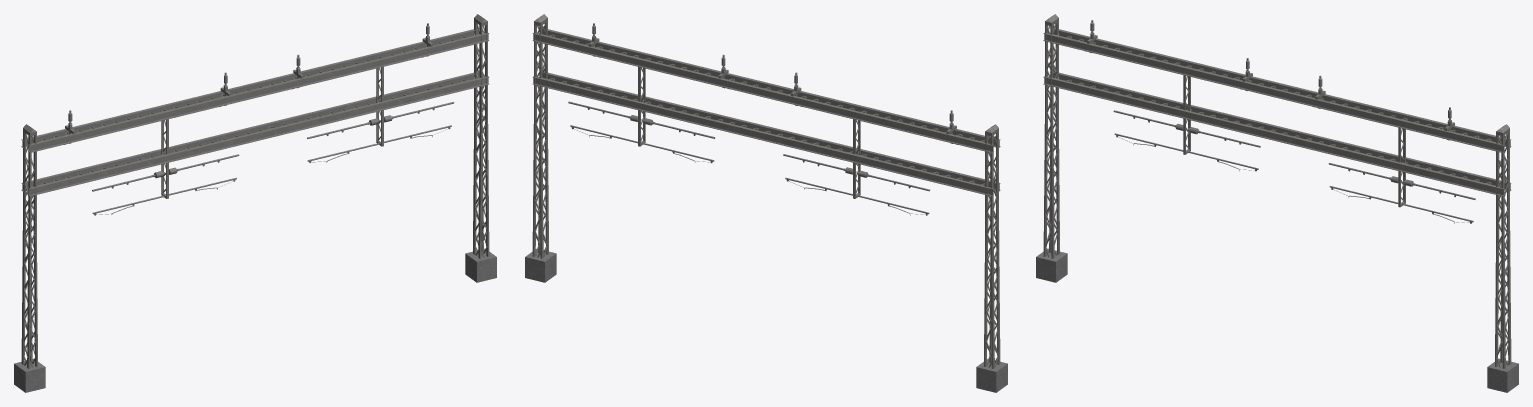
Rendered from Gantry-D.fbx.
3 renders of one model, left to right at view 1: azimuth 30°, elevation 25°; view 2: azimuth 150°, elevation 25°; view 3: azimuth 330°, elevation 25°, orthographic.
Visible parts, largest first — view 1: Gantry-D; view 2: Gantry-D; view 3: Gantry-D.
Part boxes in pixels (left/top/right/bottom): Gantry-D: left=14, top=14, right=496, bottom=392; Gantry-D: left=525, top=14, right=1007, bottom=392; Gantry-D: left=1036, top=14, right=1518, bottom=392.
Size of the model in its own units: 18.8 by 10.13 by 0.8.
